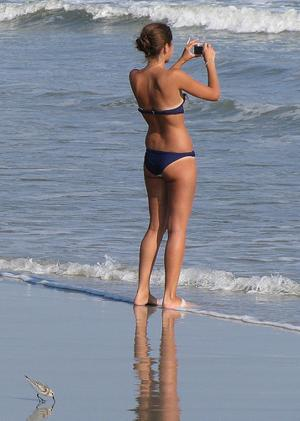person: (129, 22, 222, 311)
